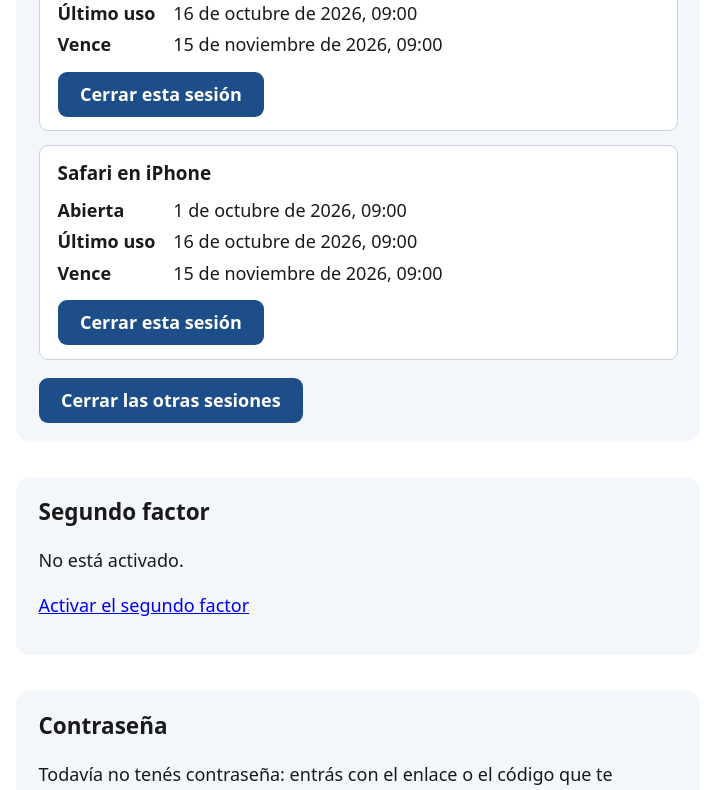
Test: página /cuenta › cierra las otras sesiones con CSRF y deja solo la actual
(page scrolled)
Click the button "Cerrar las otras sesiones" at (171, 400), box [38,378,303,423]
(page scrolled)
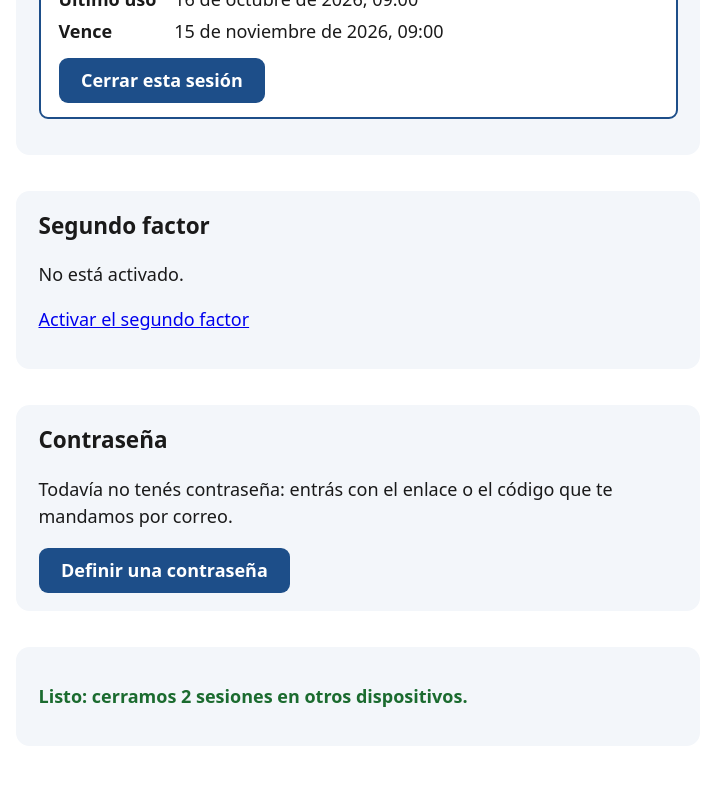
Check: the text "Listo: cerramos 2 sesiones en otros dispositivos." is shown, box [38,684,468,708]
Check: the button "Cerrar las otras sesiones" is gone
